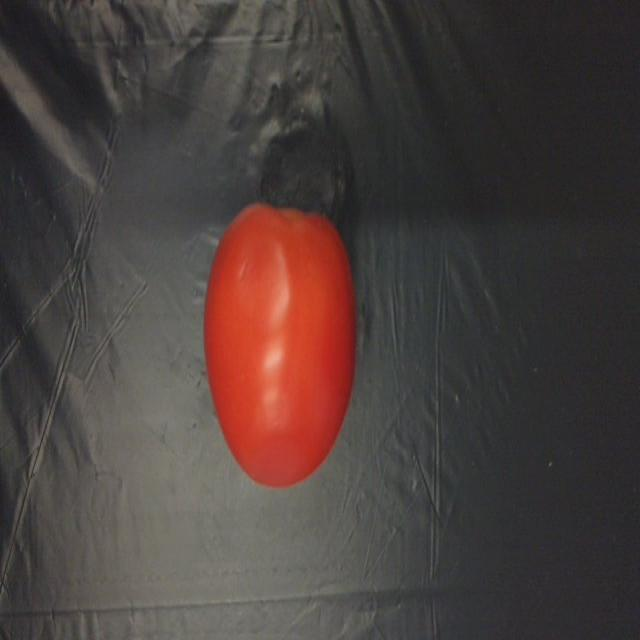kirmizi: (192, 185, 358, 497)
